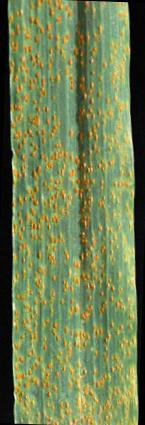Wheat: (16, 8, 126, 424)
